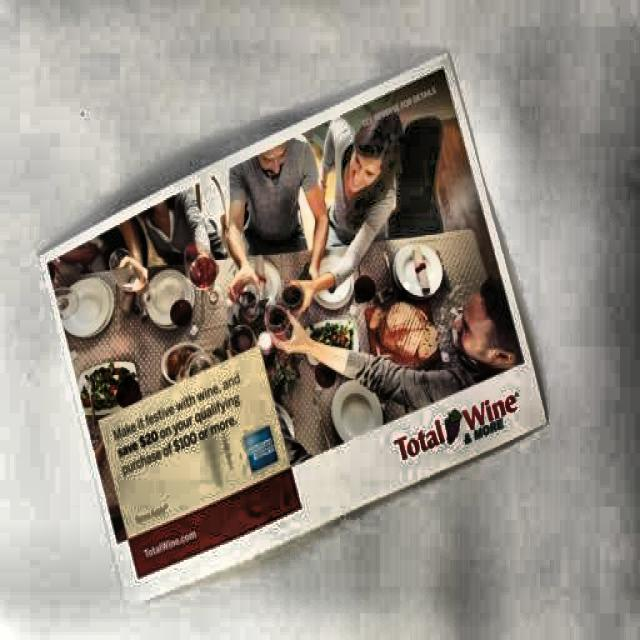paper: (27, 54, 554, 544)
